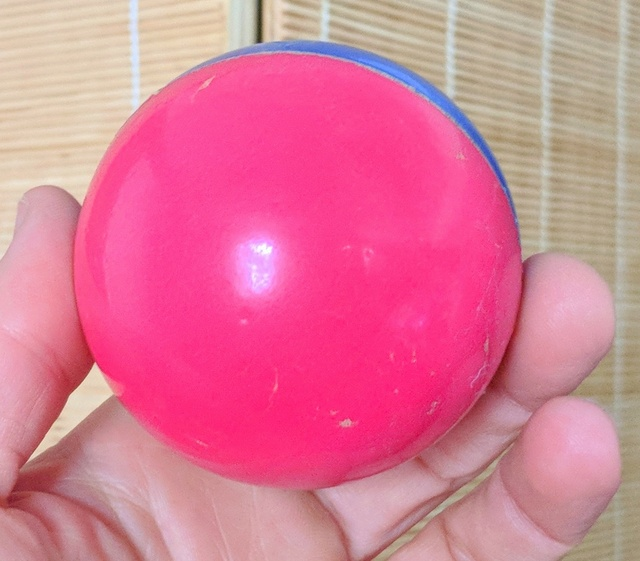ball: (70, 38, 524, 495)
